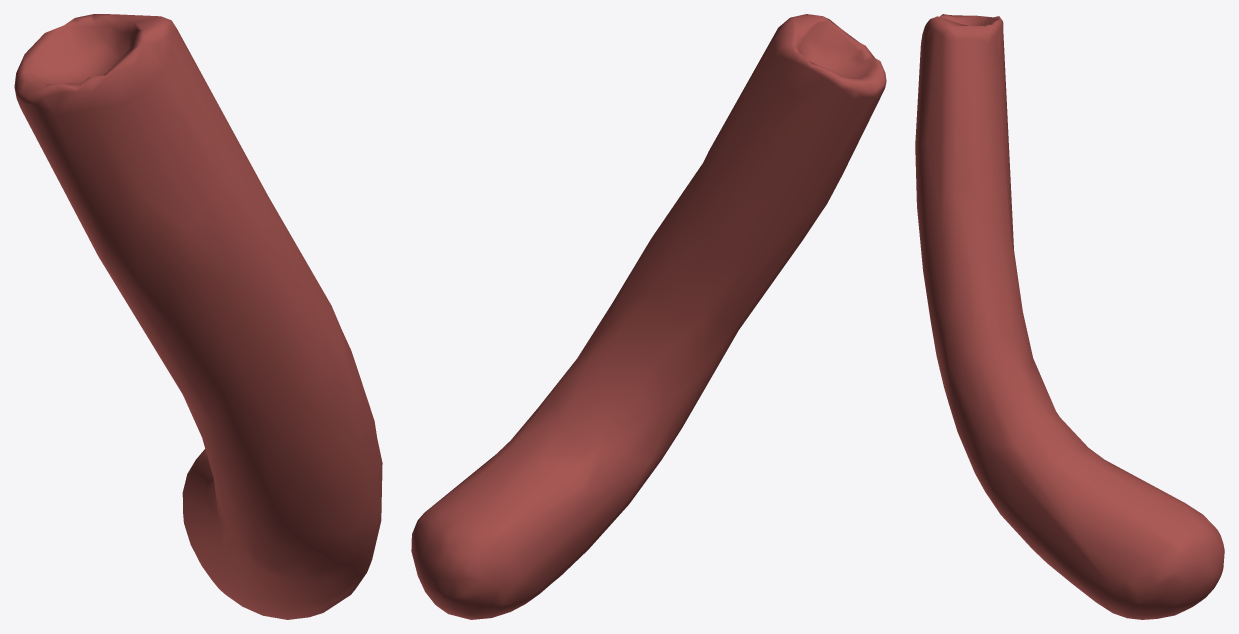
File: FMA14771.glb
3 views of the same model, side by side, from view 1: azimuth 30°, elevation 25°; view 2: azimuth 150°, elevation 25°; view 3: azimuth 270°, elevation 25° (orthographic). The views are drawn at different scales.
Parts seen in each view (by area): view 1: FMA14771; view 2: FMA14771; view 3: FMA14771.
Part boxes in pixels (x1,y1,x2,y2): FMA14771: (14,14,382,619); FMA14771: (411,14,886,619); FMA14771: (915,14,1224,619).
Size of the model in its own units: 0.0204 by 0.0308 by 0.0172.
